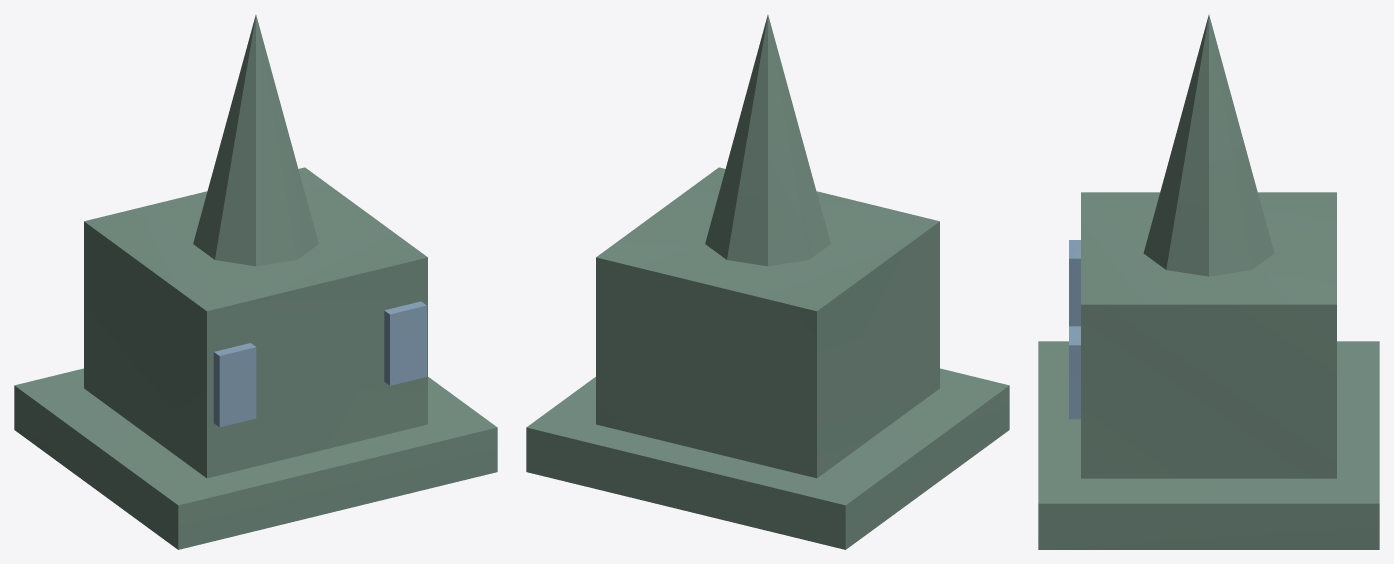
The model's file is monument-02.glb.
The picture shows the model from 3 angles, left to right: view 1: azimuth 30°, elevation 25°; view 2: azimuth 150°, elevation 25°; view 3: azimuth 270°, elevation 25°; orthographic projection. The views are drawn at different scales.
Parts seen in each view (by area): view 1: world; view 2: world; view 3: world.
Boxes of the visible parts, bbox=[...] form: world: bbox=[14, 15, 497, 549]; world: bbox=[526, 15, 1009, 549]; world: bbox=[1038, 15, 1379, 549].
Size of the model in its own units: 1.12 by 1.47 by 1.
